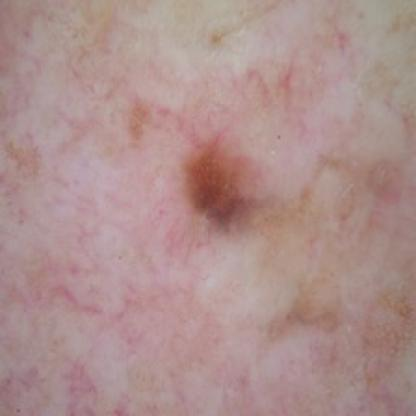malignant: (162, 113, 299, 240)
